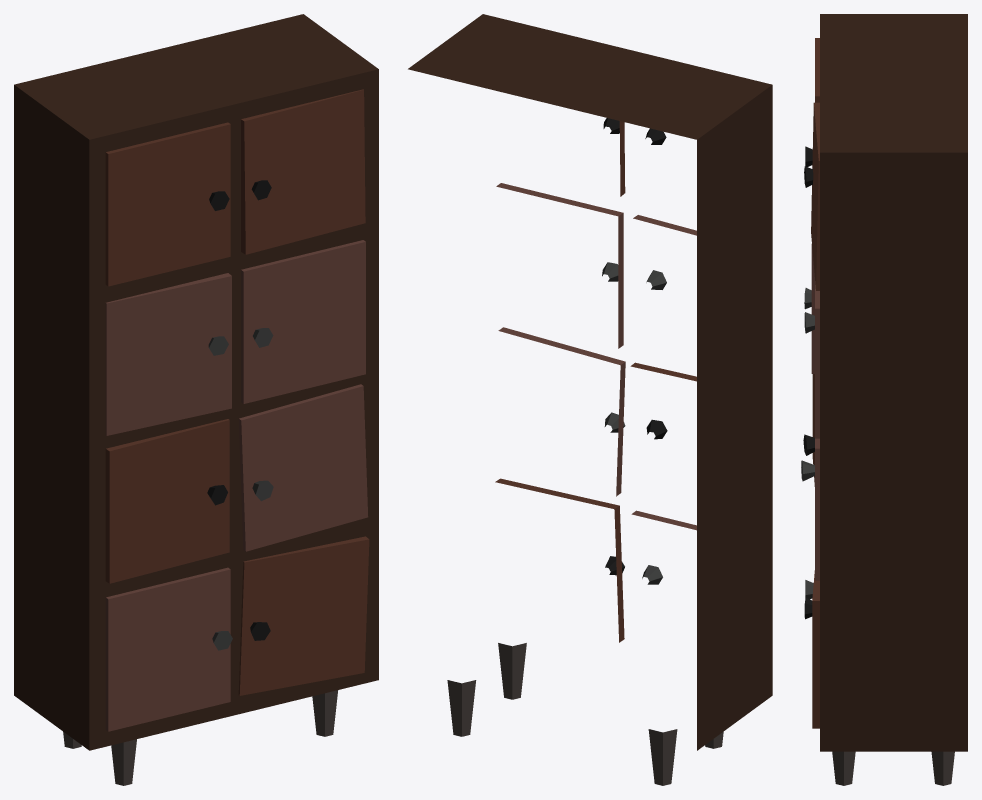
The model's file is CrudeCloset.glb.
3 renders of one model, left to right at view 1: azimuth 30°, elevation 25°; view 2: azimuth 150°, elevation 25°; view 3: azimuth 270°, elevation 25°, orthographic. The views are drawn at different scales.
Visible parts, largest first — view 1: CrudeCloset; view 2: CrudeCloset; view 3: CrudeCloset.
Boxes of the visible parts, box(x1,y1,x2,y2) form: CrudeCloset: box(14, 14, 378, 785); CrudeCloset: box(408, 14, 772, 785); CrudeCloset: box(801, 14, 967, 785).
Bounding box in the file's own units: 1.11 × 2.42 × 0.5621.
1 material, 1 textured.
